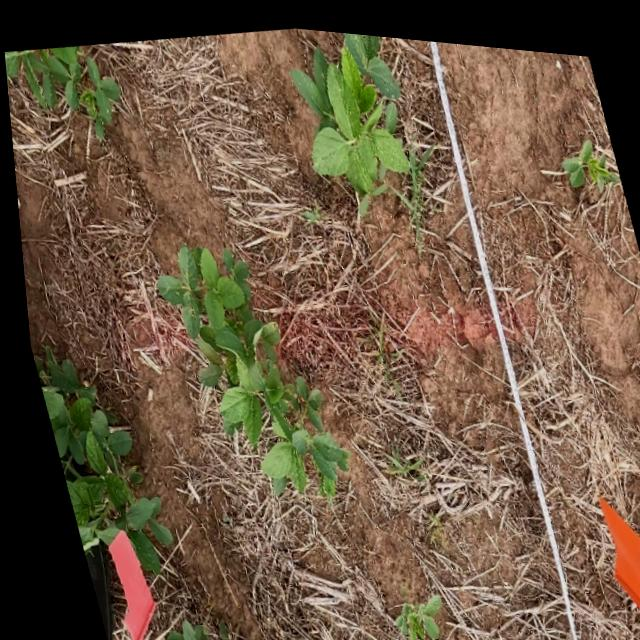grassy_weed: (405, 134, 430, 241), (375, 437, 417, 472), (370, 306, 389, 365)
soy_plant: (151, 244, 339, 487), (27, 348, 162, 569), (290, 26, 407, 206), (4, 44, 117, 136), (561, 128, 615, 178), (384, 587, 430, 640), (156, 618, 195, 640)
